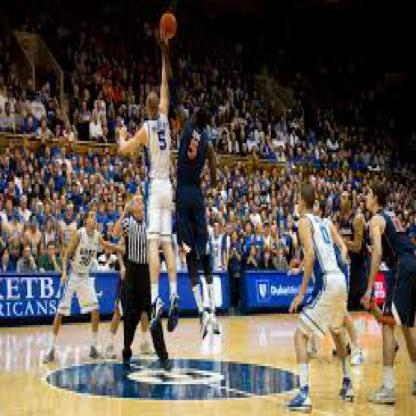basketball: (160, 11, 177, 41)
